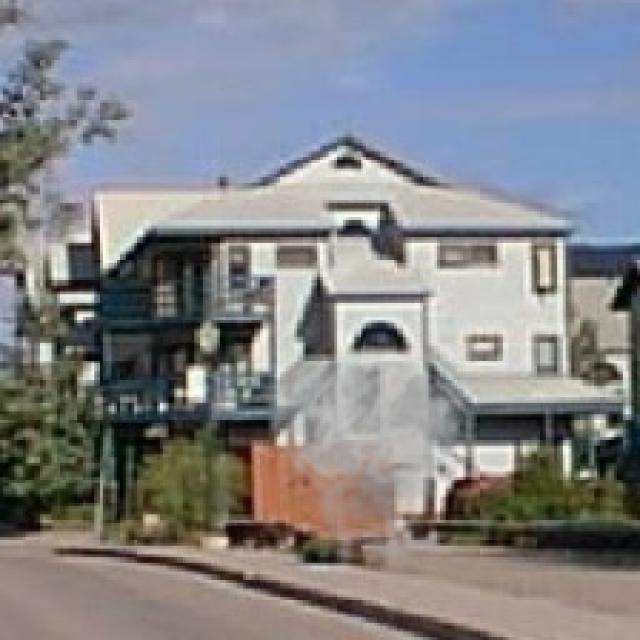Smoke: (260, 343, 489, 580)
